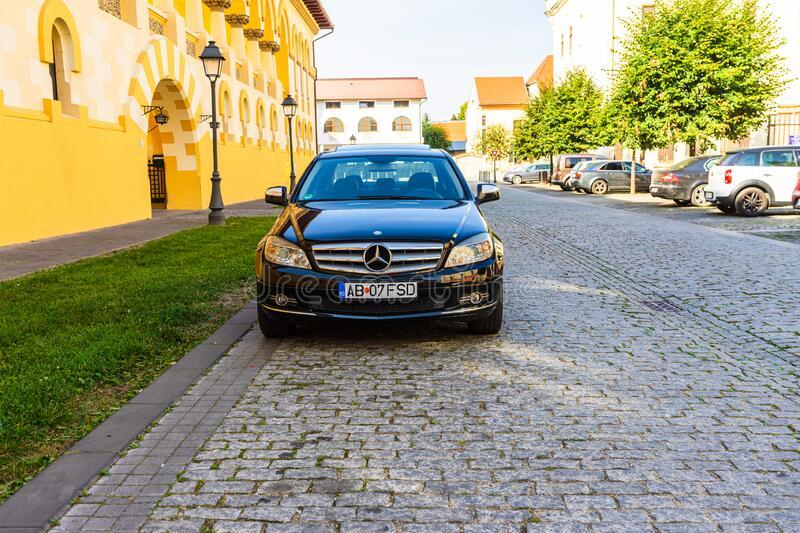license-plates: (337, 280, 418, 299)
